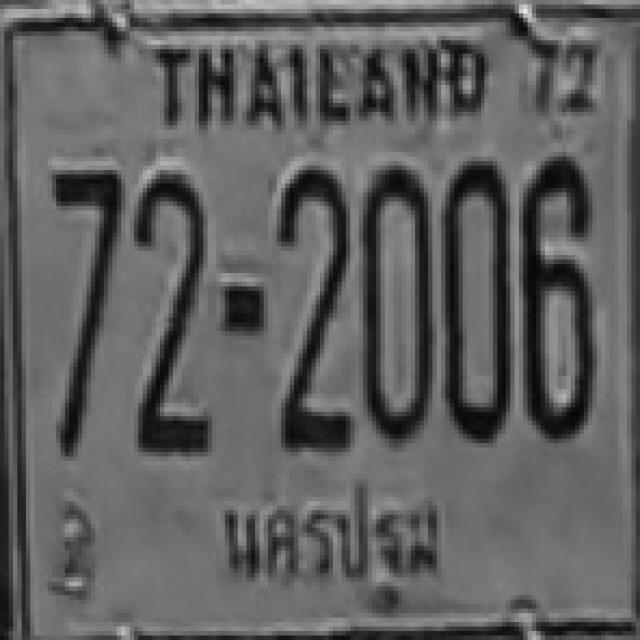7: (48, 168, 121, 320)
NakhonPathom: (206, 466, 454, 611)
